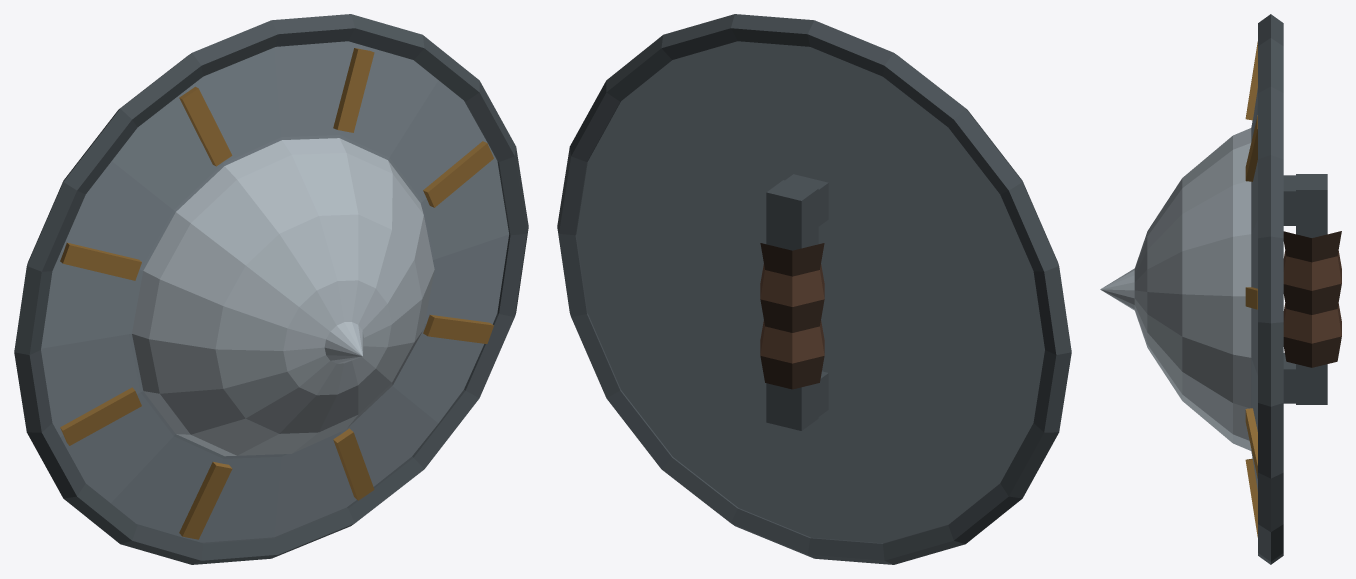
The model's file is mdvl_weapons_buckler_01.glb.
The picture shows the model from 3 angles, left to right: view 1: azimuth 30°, elevation 25°; view 2: azimuth 150°, elevation 25°; view 3: azimuth 270°, elevation 25°; orthographic projection. The views are drawn at different scales.
Parts seen in each view (by area): view 1: mdvl_weapons_buckler_01; view 2: mdvl_weapons_buckler_01; view 3: mdvl_weapons_buckler_01.
Boxes of the visible parts, <box> form: mdvl_weapons_buckler_01: <box>14,14,528,564</box>; mdvl_weapons_buckler_01: <box>557,14,1071,564</box>; mdvl_weapons_buckler_01: <box>1100,14,1341,564</box>.
Bounding box in the file's own units: 0.351 × 0.351 × 0.153.
Materials: 1 (1 with a texture image).
